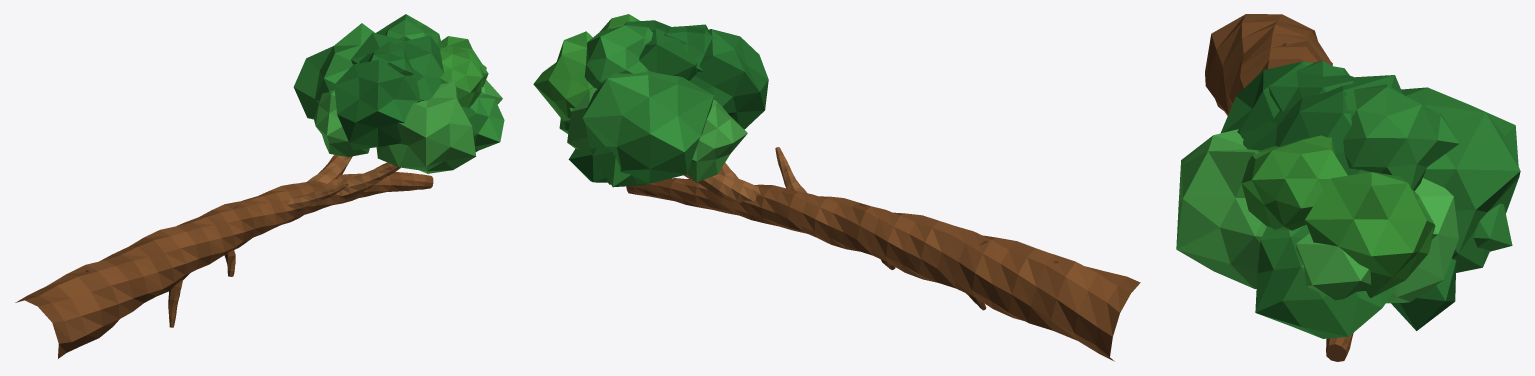
File: branch.glb
The picture shows the model from 3 angles, left to right: view 1: azimuth 30°, elevation 25°; view 2: azimuth 150°, elevation 25°; view 3: azimuth 270°, elevation 25°; orthographic projection. The views are drawn at different scales.
Visible parts, largest first — view 1: Branch; view 2: Branch; view 3: Branch.
Part boxes in pixels (x1,y1,x2,y2): Branch: (15,14,504,358); Branch: (533,14,1140,361); Branch: (1176,14,1520,361).
Size of the model in its own units: 8.6 by 3.68 by 3.13.
